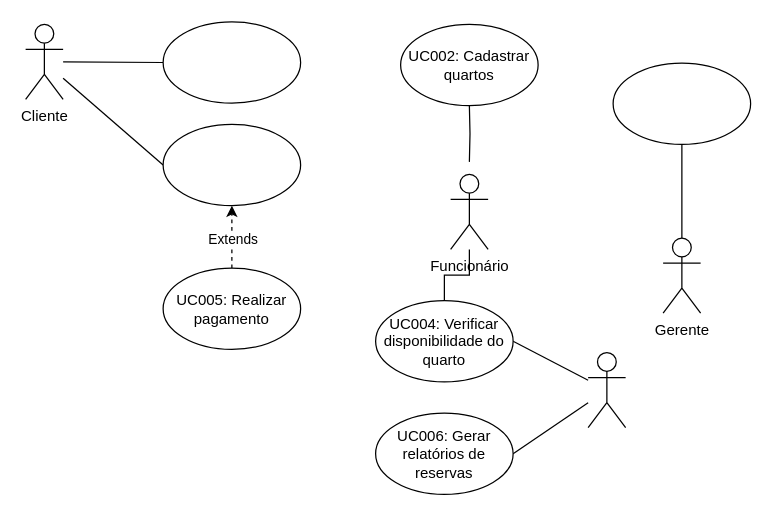
Image size: 773x516. Some labels were removed from this diagram. The centre of each missing label's shape, as x and y in pixels:
"Sistema" belongs at point 606,389.
"UC001: Cadastrar cliente" belongs at point 231,62.
"UC003: Reservar quartos" belongs at point 231,164.
"UC007: Cadastrar funcionários" belongs at point 681,103.
